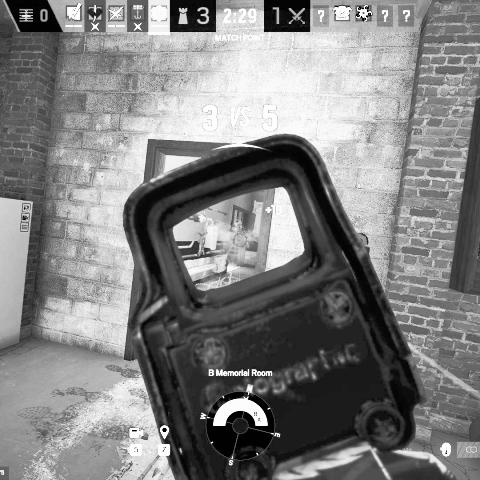Character: (235, 220, 242, 240)
Head: (236, 220, 239, 224)
